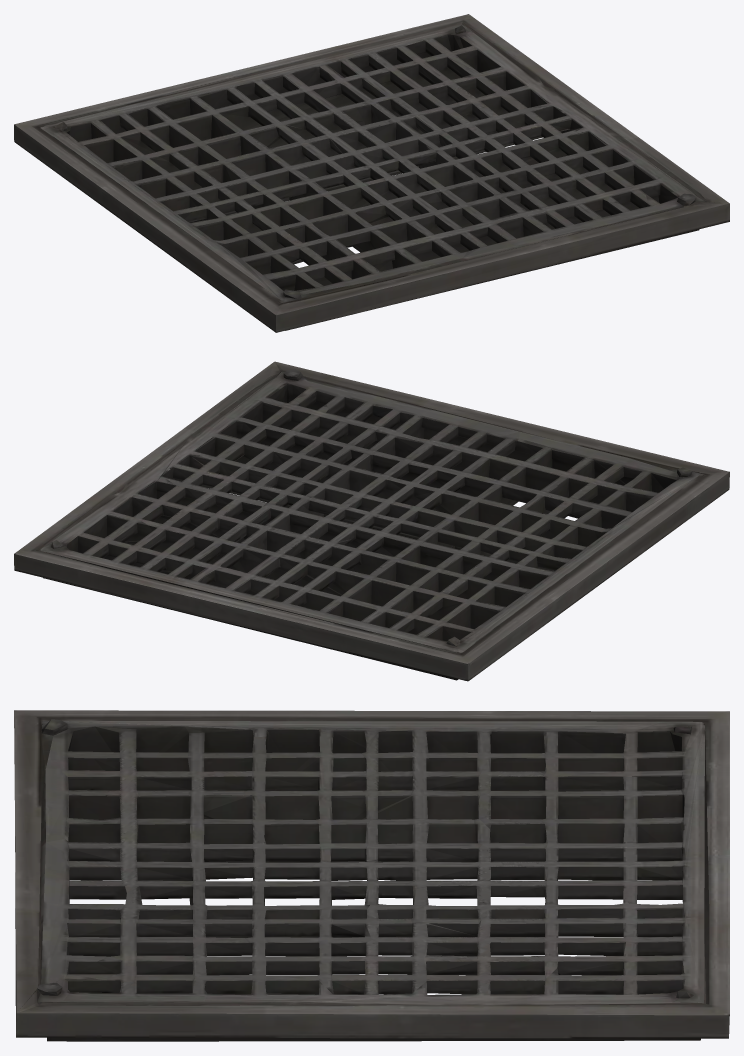
The model's file is vent-ceiling.glb.
The picture shows the model from 3 angles, top to bottom: view 1: azimuth 30°, elevation 25°; view 2: azimuth 150°, elevation 25°; view 3: azimuth 270°, elevation 25°; orthographic projection. The views are drawn at different scales.
Parts seen in each view (by area): view 1: geometry_0; view 2: geometry_0; view 3: geometry_0.
Boxes of the visible parts, x1=… form: geometry_0: x1=14, y1=14, x2=729, y2=332; geometry_0: x1=14, y1=361, x2=729, y2=681; geometry_0: x1=14, y1=710, x2=729, y2=1041.
Size of the model in its own units: 0.997 by 0.077 by 0.9948.
1 material, 1 textured.
